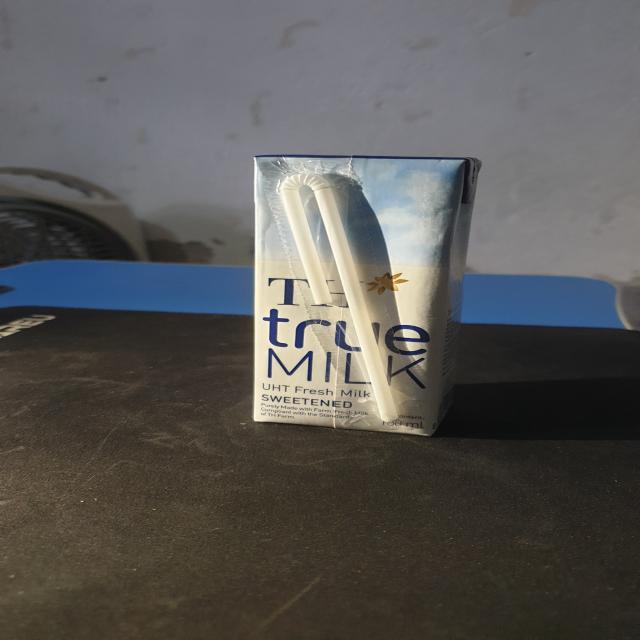TH: (252, 157, 481, 436)
